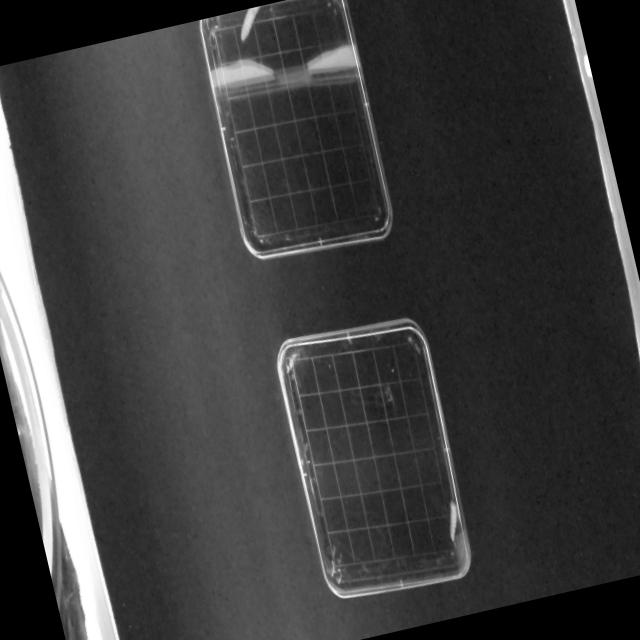larva: (440, 497, 464, 542)
